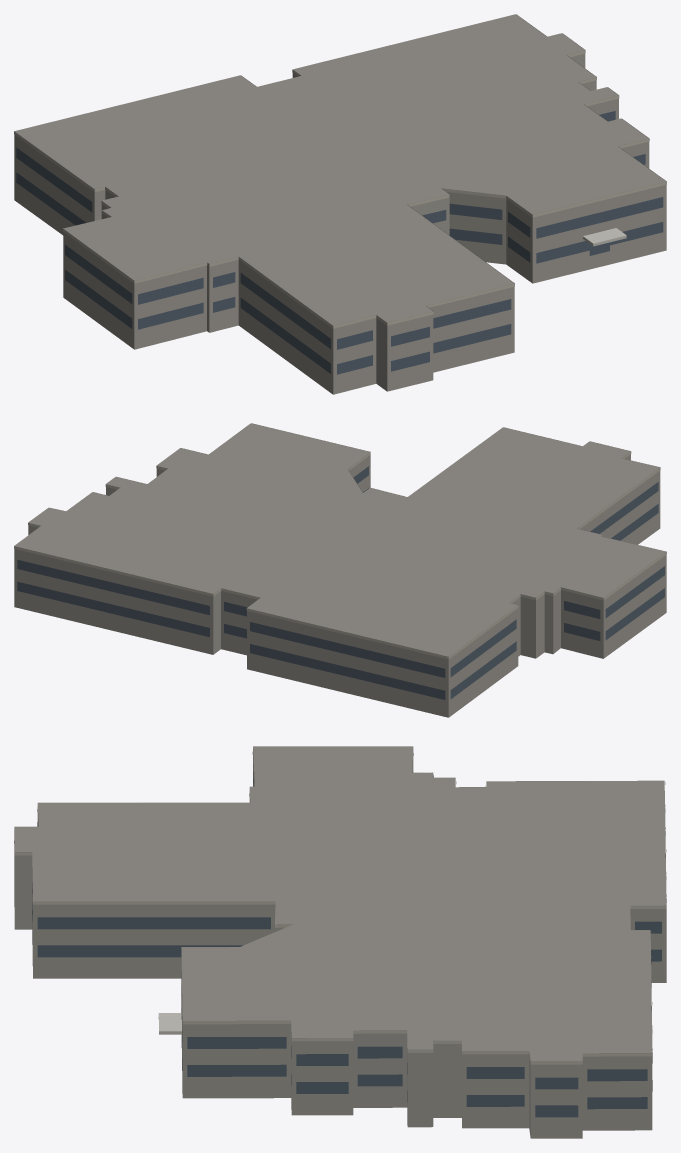
The model's file is government-5524-m2-bo12307.glb.
The picture shows the model from 3 angles, top to bottom: view 1: azimuth 30°, elevation 25°; view 2: azimuth 150°, elevation 25°; view 3: azimuth 270°, elevation 25°; orthographic projection. The views are drawn at different scales.
Parts seen in each view (by area): view 1: government_5524_m2_bo12307; view 2: government_5524_m2_bo12307; view 3: government_5524_m2_bo12307.
Boxes of the visible parts, x1=… form: government_5524_m2_bo12307: x1=14, y1=14, x2=666, y2=394; government_5524_m2_bo12307: x1=14, y1=423, x2=666, y2=717; government_5524_m2_bo12307: x1=14, y1=746, x2=666, y2=1138.
Bounding box in the file's own units: 96.87 × 11.09 × 84.76.
